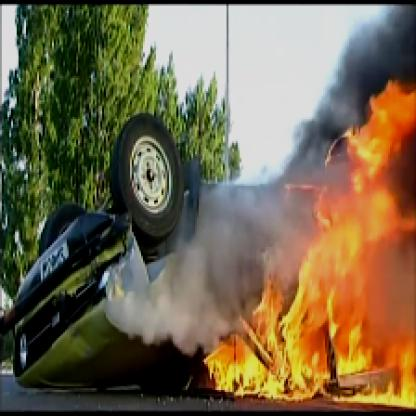Fire: (197, 52, 414, 414)
